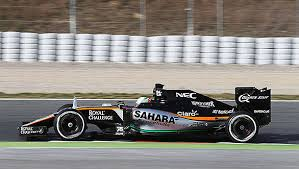FormulaOneCar: (16, 81, 273, 149)
